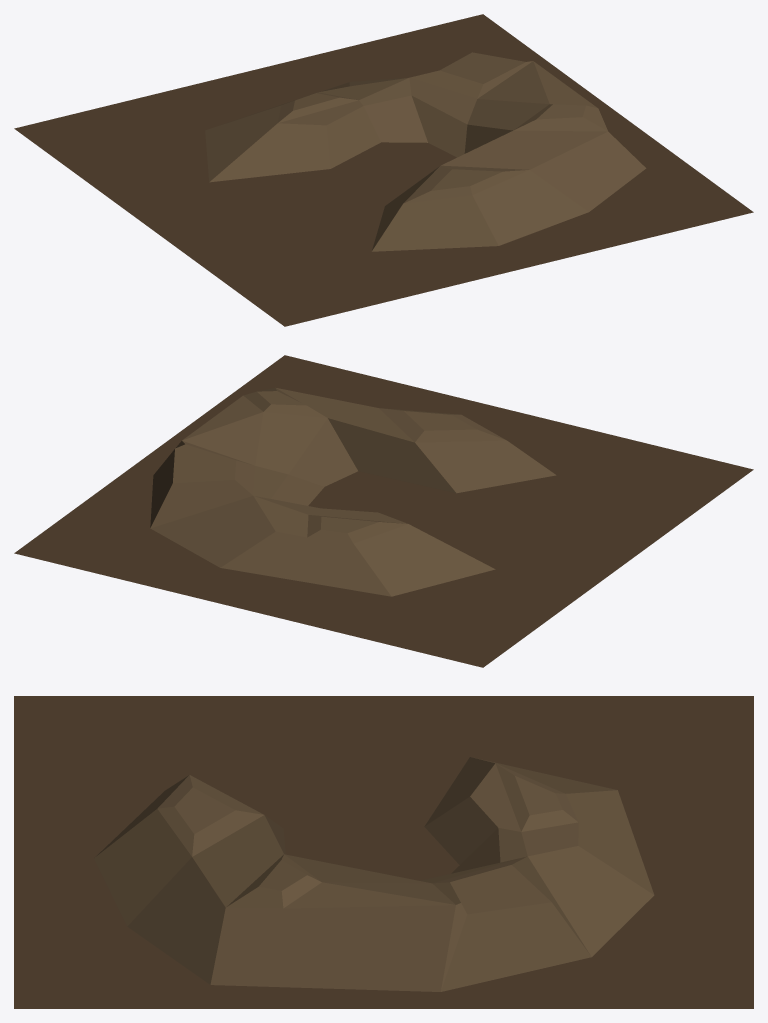
3 renders of one model, top to bottom at view 1: azimuth 30°, elevation 25°; view 2: azimuth 150°, elevation 25°; view 3: azimuth 270°, elevation 25°, orthographic. The views are drawn at different scales.
Parts seen in each view (by area): view 1: Plane, Cube.007; view 2: Plane, Cube.007; view 3: Plane, Cube.007.
Boxes of the visible parts, bbox=[...] form: Plane: bbox=[14, 14, 753, 326]; Cube.007: bbox=[205, 52, 646, 251]; Plane: bbox=[14, 355, 753, 667]; Cube.007: bbox=[150, 387, 556, 596]; Plane: bbox=[14, 696, 753, 1008]; Cube.007: bbox=[94, 757, 654, 991].
Size of the model in its own units: 30000 by 3198 by 30000.
